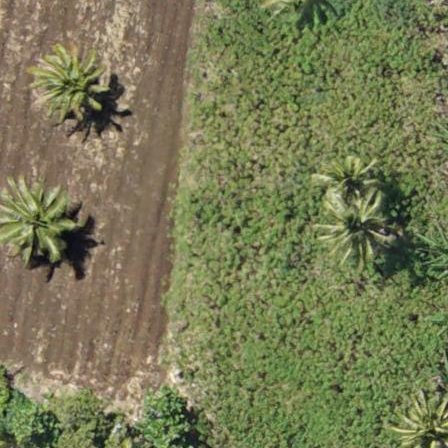palm_tree: (1, 171, 81, 271), (26, 41, 114, 128), (326, 199, 388, 266), (320, 148, 382, 214), (393, 397, 448, 448)
